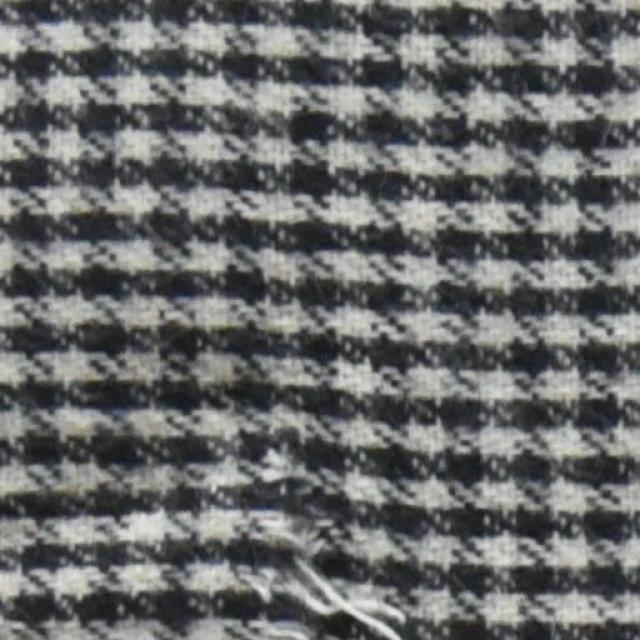Snag: (246, 423, 418, 639)
